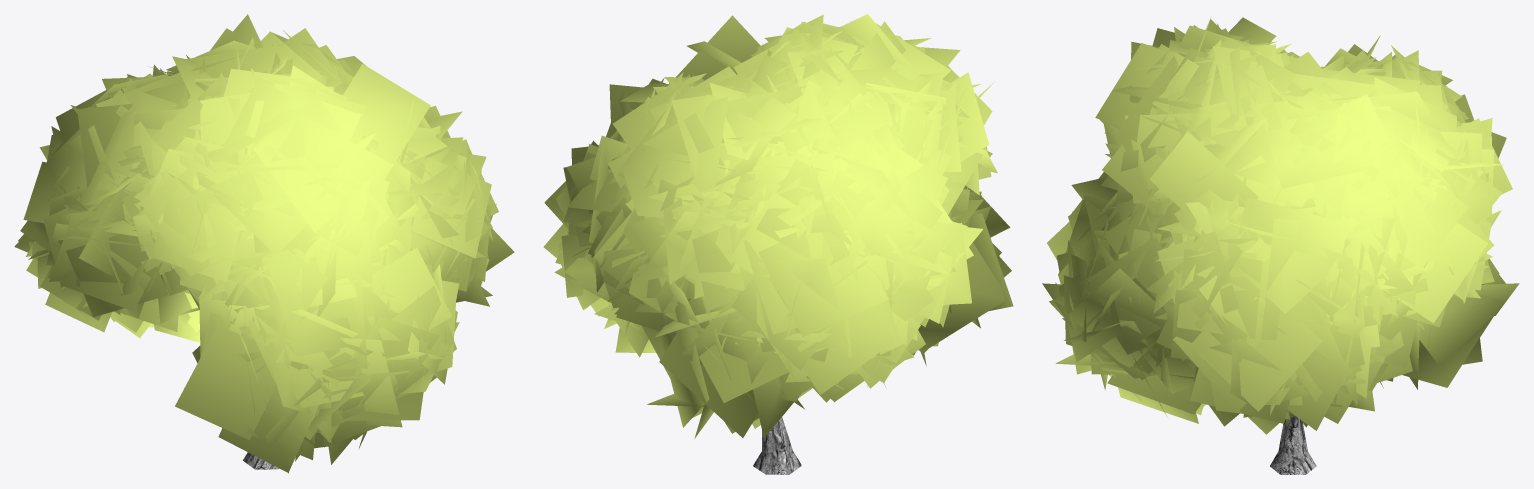
Rendered from tree0.fbx.
3 renders of one model, left to right at view 1: azimuth 30°, elevation 25°; view 2: azimuth 150°, elevation 25°; view 3: azimuth 270°, elevation 25°, orthographic. The views are drawn at different scales.
Parts seen in each view (by area): view 1: Leaves; view 2: Leaves, Tree0; view 3: Leaves, Tree0.
Part boxes in pixels (x1,y1,x2,y2): Leaves: (14,14,514,473); Leaves: (543,14,1013,438); Tree0: (688,299,801,474); Leaves: (1042,16,1519,434); Tree0: (1270,416,1316,474).
Size of the model in its own units: 21.72 by 20.82 by 21.04.
